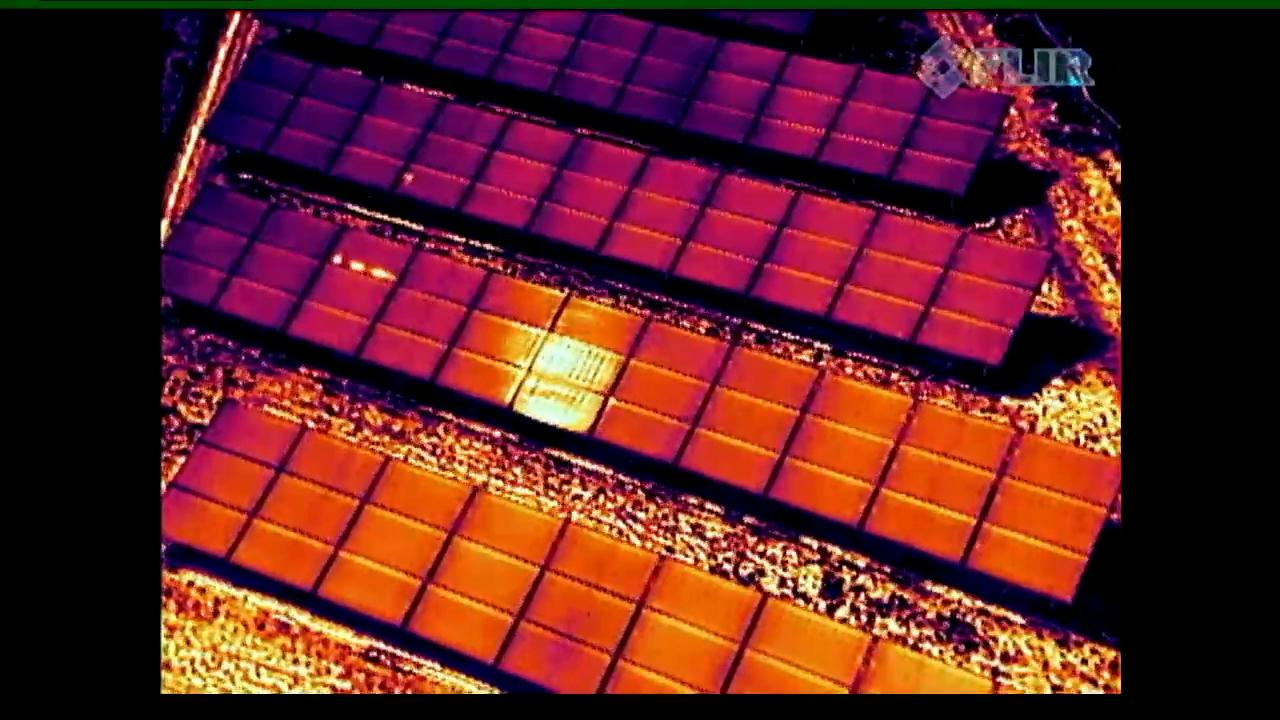hotspot: (282, 220, 414, 354), (395, 93, 507, 203)
